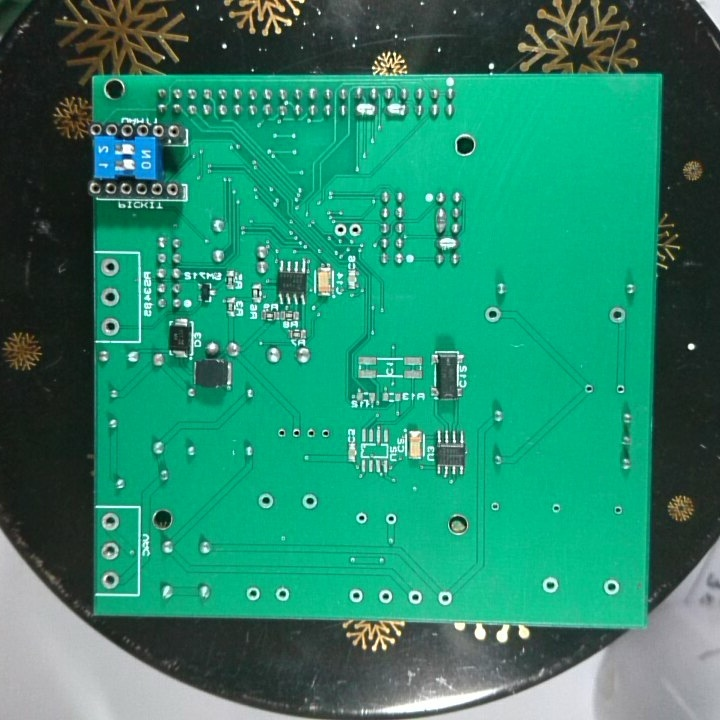F: (97, 256, 122, 281), (480, 302, 504, 328), (98, 284, 122, 309), (604, 304, 629, 328), (99, 315, 123, 338), (99, 539, 122, 563), (98, 568, 122, 591), (539, 572, 560, 597), (299, 491, 321, 514), (242, 583, 264, 605), (254, 490, 276, 512), (599, 575, 620, 598), (100, 509, 120, 533), (346, 586, 367, 606), (405, 587, 424, 609), (374, 587, 395, 606), (272, 583, 291, 603), (435, 588, 454, 608), (346, 219, 364, 240), (382, 509, 400, 530), (331, 220, 348, 240), (352, 509, 370, 527), (581, 380, 596, 399), (612, 380, 626, 399), (273, 426, 289, 442), (289, 426, 305, 442), (318, 427, 334, 443), (549, 499, 562, 518), (488, 496, 500, 515), (304, 426, 319, 441), (611, 501, 624, 518)
P: (382, 100, 411, 120), (351, 100, 379, 120), (432, 235, 462, 253), (433, 205, 447, 235)
